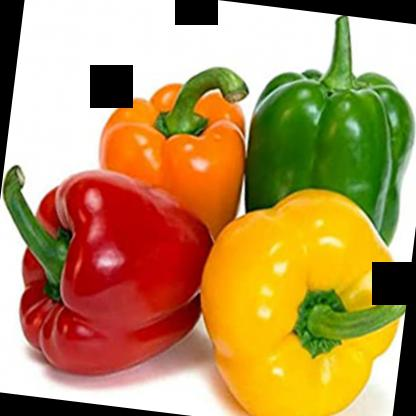bell pepper: (187, 172, 415, 415), (0, 153, 231, 392), (235, 5, 415, 272), (90, 50, 258, 238)
